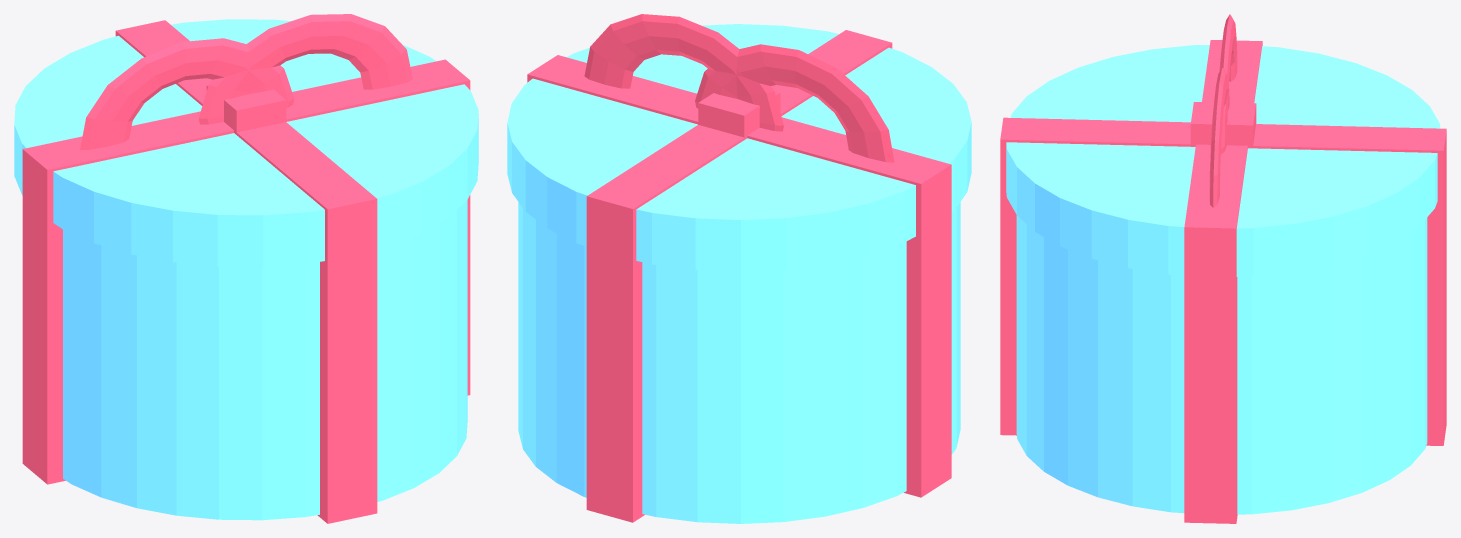
The model's file is Tmpl_Round_Root_210.glb.
3 views of the same model, side by side, from view 1: azimuth 30°, elevation 25°; view 2: azimuth 150°, elevation 25°; view 3: azimuth 270°, elevation 25° (orthographic). The views are drawn at different scales.
Parts seen in each view (by area): view 1: Tmpl_Round_Base.208, Tmpl_Round_Lid.208, Tmpl_Round_Ribbon_Y.208, Tmpl_Round_Ribbon_X.208, Tmpl_Round_BowL.208, Tmpl_Round_BowR.208, Tmpl_Round_BowKnot.208; view 2: Tmpl_Round_Base.208, Tmpl_Round_Lid.208, Tmpl_Round_Ribbon_Y.208, Tmpl_Round_Ribbon_X.208, Tmpl_Round_BowL.208, Tmpl_Round_BowR.208, Tmpl_Round_BowKnot.208; view 3: Tmpl_Round_Base.208, Tmpl_Round_Lid.208, Tmpl_Round_Ribbon_X.208, Tmpl_Round_Ribbon_Y.208, Tmpl_Round_BowKnot.208, Tmpl_Round_BowL.208, Tmpl_Round_BowR.208.
Boxes of the visible parts, box(x1,y1,x2,y2) form: Tmpl_Round_Base.208: box(63, 200, 467, 520); Tmpl_Round_Lid.208: box(14, 19, 478, 266); Tmpl_Round_Ribbon_Y.208: box(115, 20, 377, 523); Tmpl_Round_Ribbon_X.208: box(22, 59, 470, 484); Tmpl_Round_BowL.208: box(198, 14, 412, 124); Tmpl_Round_BowR.208: box(80, 38, 294, 149); Tmpl_Round_BowKnot.208: box(206, 85, 286, 132); Tmpl_Round_Base.208: box(518, 202, 960, 523); Tmpl_Round_Lid.208: box(507, 24, 971, 271); Tmpl_Round_Ribbon_Y.208: box(586, 30, 892, 522); Tmpl_Round_Ribbon_X.208: box(527, 55, 951, 497); Tmpl_Round_BowL.208: box(584, 14, 783, 131); Tmpl_Round_BowR.208: box(695, 44, 894, 162); Tmpl_Round_BowKnot.208: box(698, 90, 780, 139); Tmpl_Round_Base.208: box(1016, 215, 1427, 514); Tmpl_Round_Lid.208: box(1006, 45, 1440, 276); Tmpl_Round_Ribbon_X.208: box(1184, 40, 1262, 523); Tmpl_Round_Ribbon_Y.208: box(1000, 117, 1446, 445); Tmpl_Round_BowKnot.208: box(1190, 102, 1256, 148); Tmpl_Round_BowL.208: box(1209, 68, 1229, 207); Tmpl_Round_BowR.208: box(1219, 14, 1237, 154).
Size of the model in its own units: 0.9104 by 0.8471 by 0.9104.
